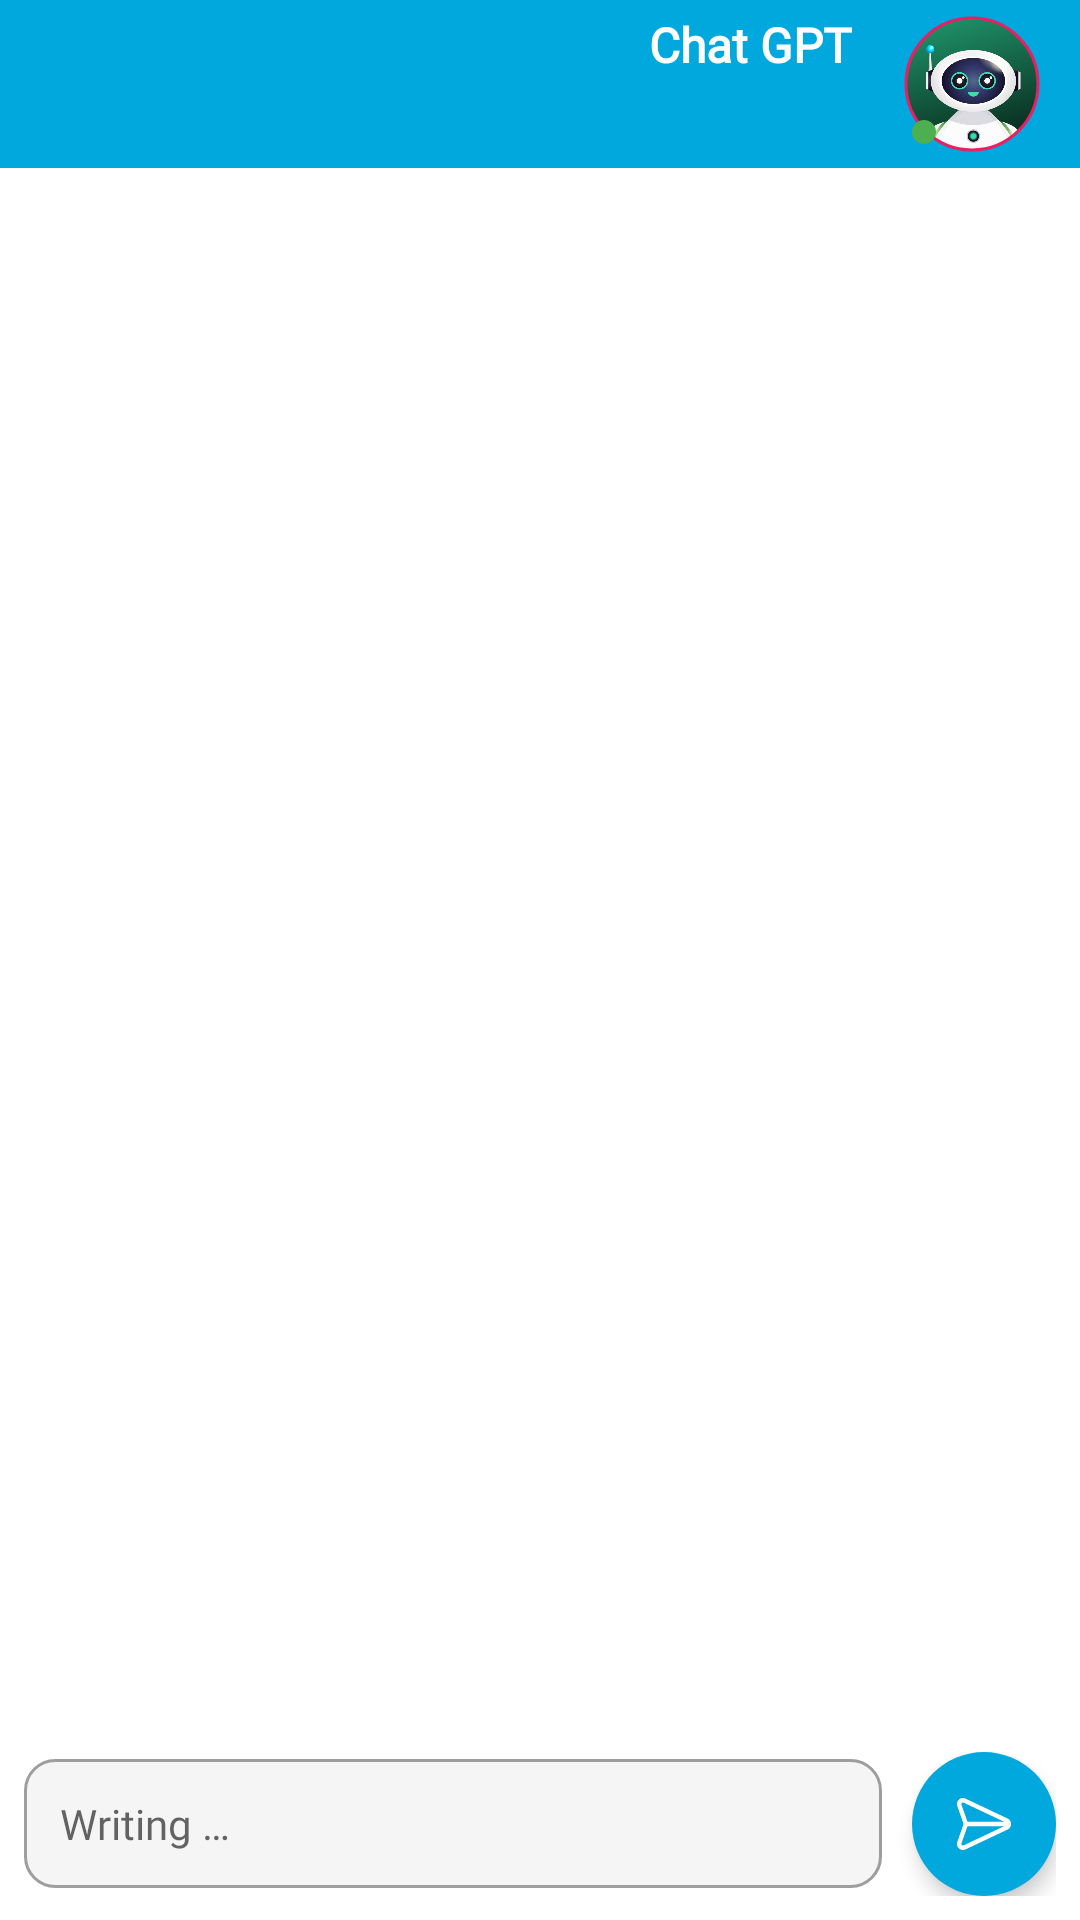

Icons on this 1080px x 1920px Android screen, each with its box as (x1=x1, y1=y1, x2=x2, y2=y2):
robot: (x1=904, y1=16, x2=1040, y2=152)
send: (x1=912, y1=1752, x2=1056, y2=1896)
